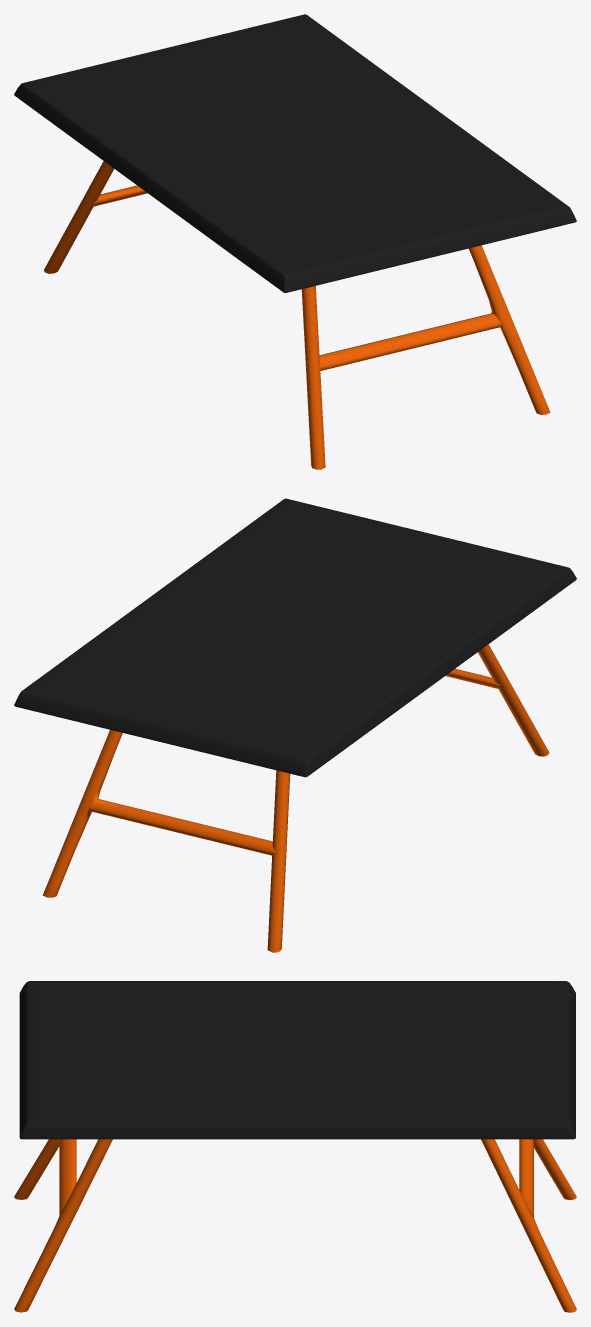
Rendered from table.fbx.
3 views of the same model, one above another, from view 1: azimuth 30°, elevation 25°; view 2: azimuth 150°, elevation 25°; view 3: azimuth 270°, elevation 25° (orthographic). The views are drawn at different scales.
Parts seen in each view (by area): view 1: pCube57; view 2: pCube57; view 3: pCube57.
Part boxes in pixels (box(x1,y1,x2,y2)): pCube57: box(14, 14, 576, 469); pCube57: box(14, 498, 576, 952); pCube57: box(14, 981, 576, 1312).
Size of the model in its own units: 3.97 by 2.56 by 6.44.
